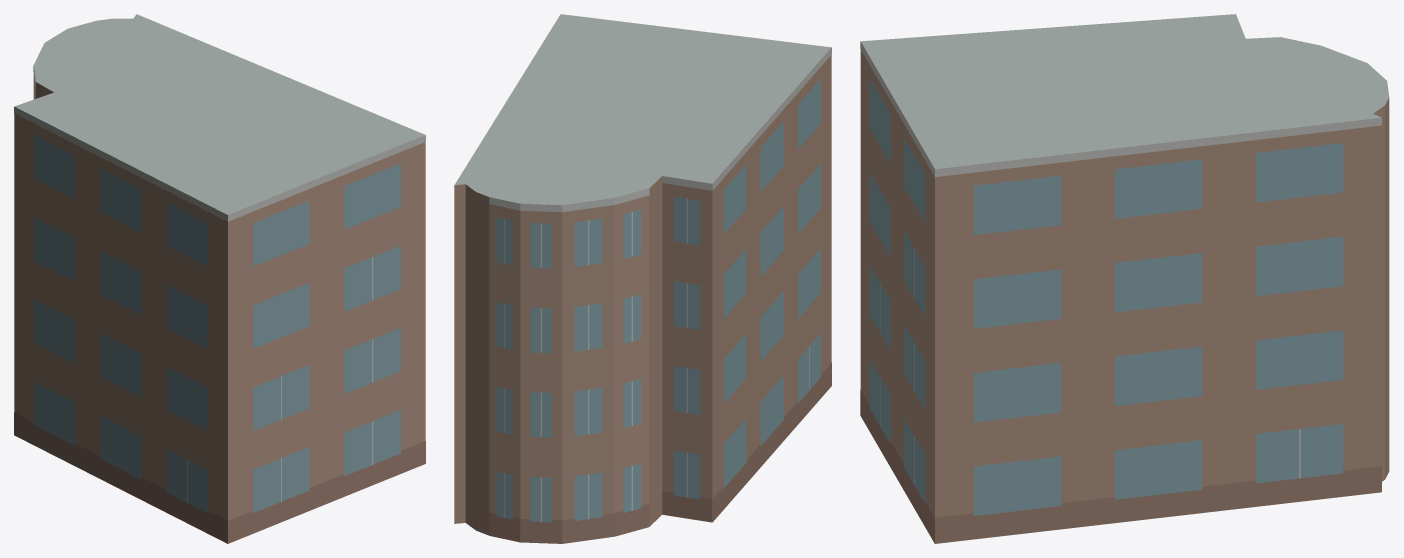
The model's file is survey-upis-32733934.glb.
3 views of the same model, side by side, from view 1: azimuth 30°, elevation 25°; view 2: azimuth 150°, elevation 25°; view 3: azimuth 270°, elevation 25° (orthographic). The views are drawn at different scales.
Parts seen in each view (by area): view 1: survey-upis-32733934.tmp; view 2: survey-upis-32733934.tmp; view 3: survey-upis-32733934.tmp.
Part boxes in pixels (left/top/right/bottom): survey-upis-32733934.tmp: left=14, top=14, right=425, bottom=543; survey-upis-32733934.tmp: left=454, top=14, right=831, bottom=543; survey-upis-32733934.tmp: left=860, top=14, right=1389, bottom=543.
Size of the model in its own units: 10.51 by 11.8 by 15.11.
